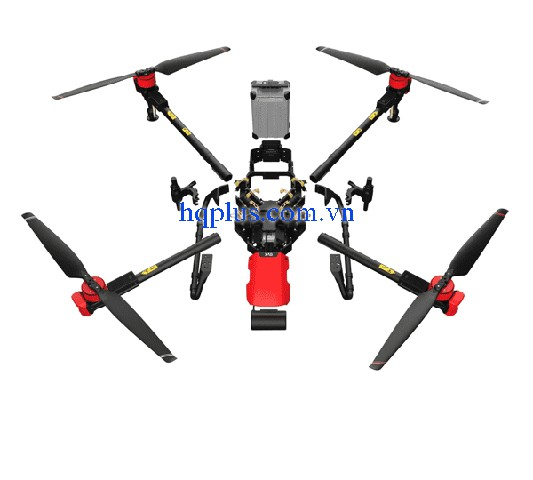maybay_khongnguoilai: (23, 36, 501, 367)
